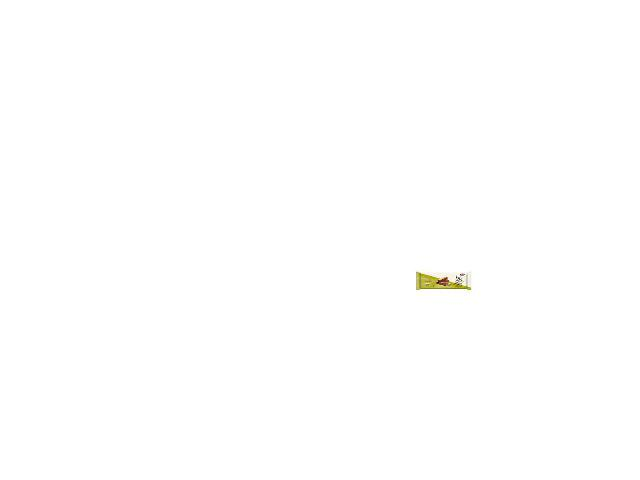chocolate: (413, 267, 474, 295)
